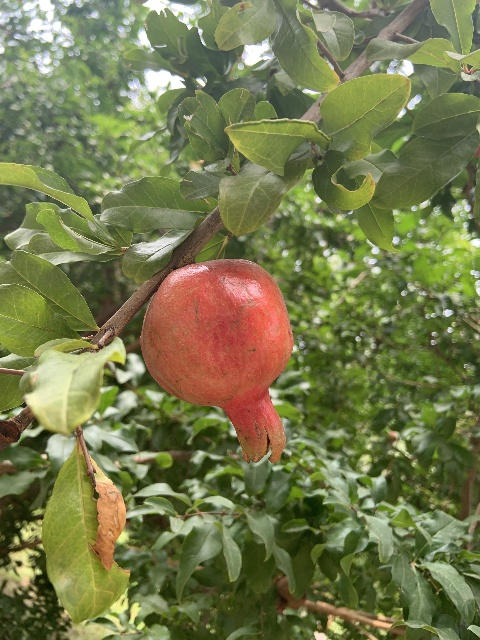ripe: (139, 259, 293, 464)
